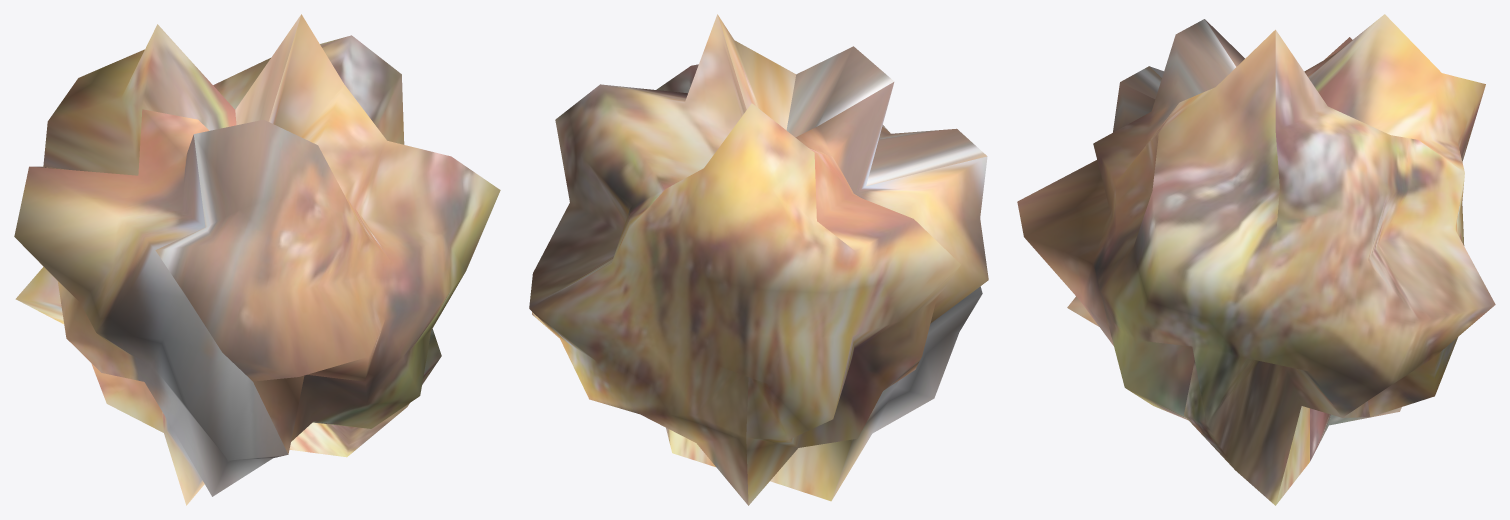
The model's file is Mokee.fbx.
3 views of the same model, side by side, from view 1: azimuth 30°, elevation 25°; view 2: azimuth 150°, elevation 25°; view 3: azimuth 270°, elevation 25° (orthographic).
Visible parts, largest first — view 1: Icosphere; view 2: Icosphere; view 3: Icosphere.
Part boxes in pixels (<box>): Icosphere: <box>14,14,500,505</box>; Icosphere: <box>529,14,988,505</box>; Icosphere: <box>1017,14,1495,505</box>.
Size of the model in its own units: 173 by 188 by 176.
